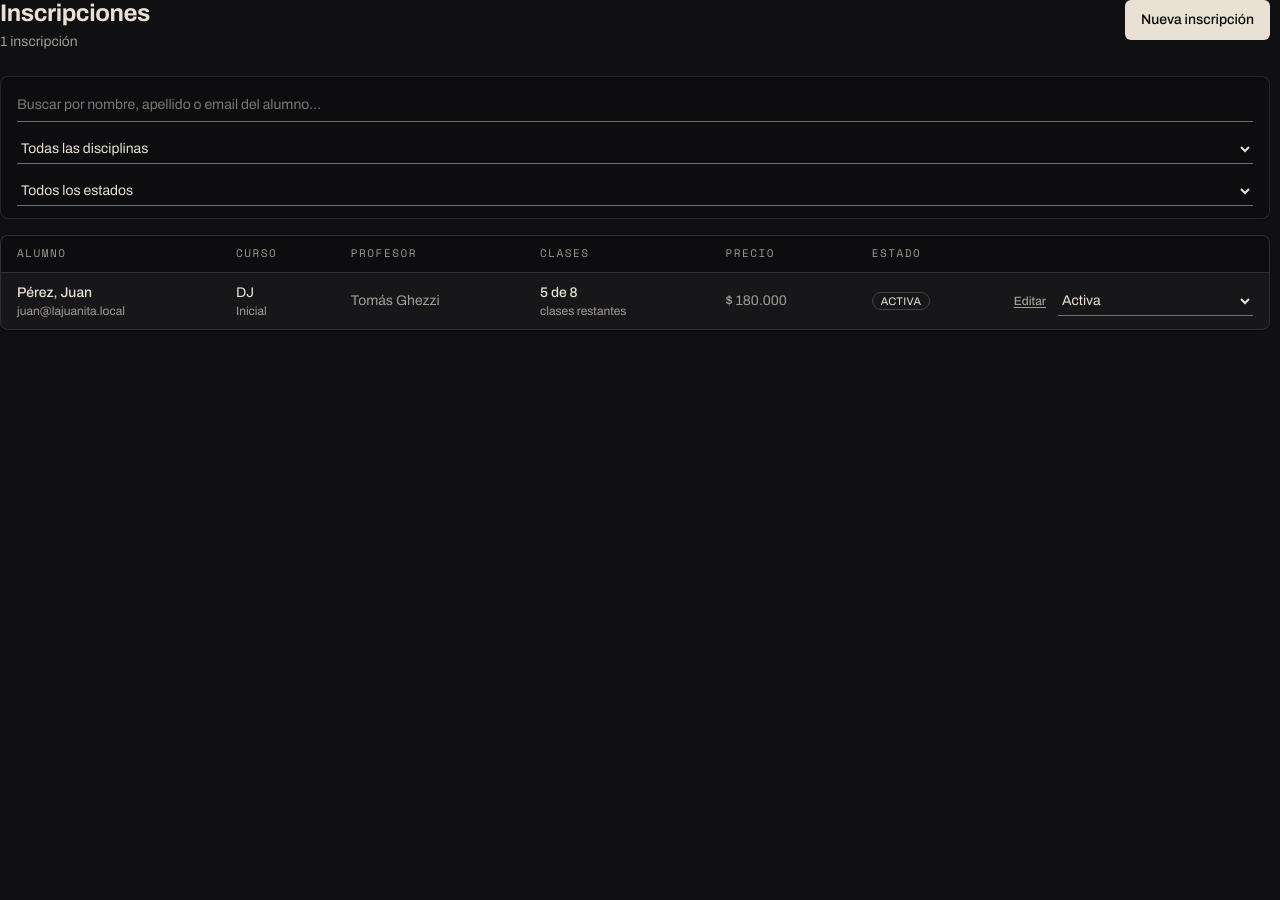
Test: las clases de fábrica del curso (§13, P34 — desde V28, del catálogo) › elegir DJ completa las 8 clases del curso cerrado
Click the button "Nueva inscripción". click: (1197, 20)
box: [1125, 0, 1270, 40]
(page scrolled)
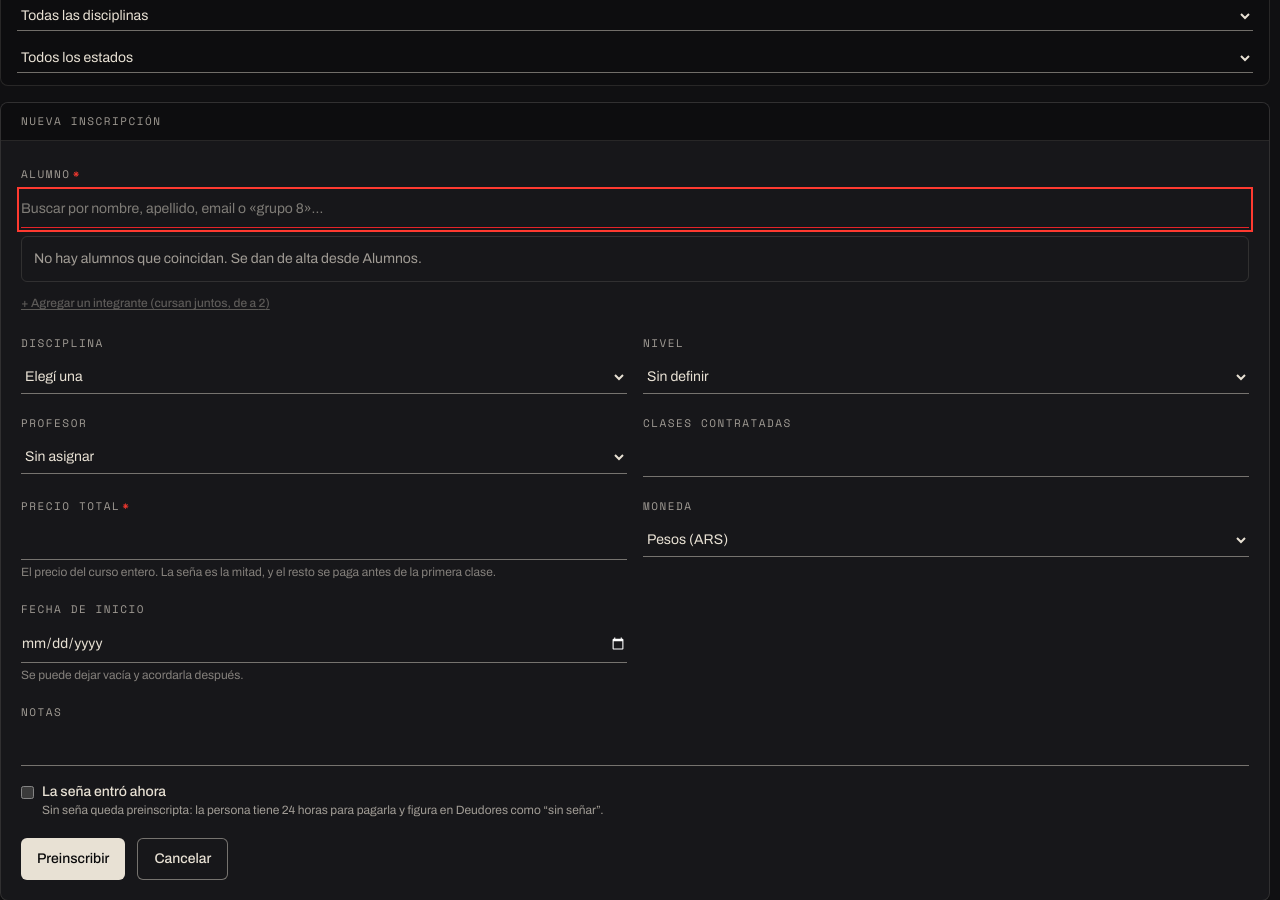
Select "DJ" in the dropdown labelled "Disciplina". click: (324, 377)
box: [21, 360, 627, 394]
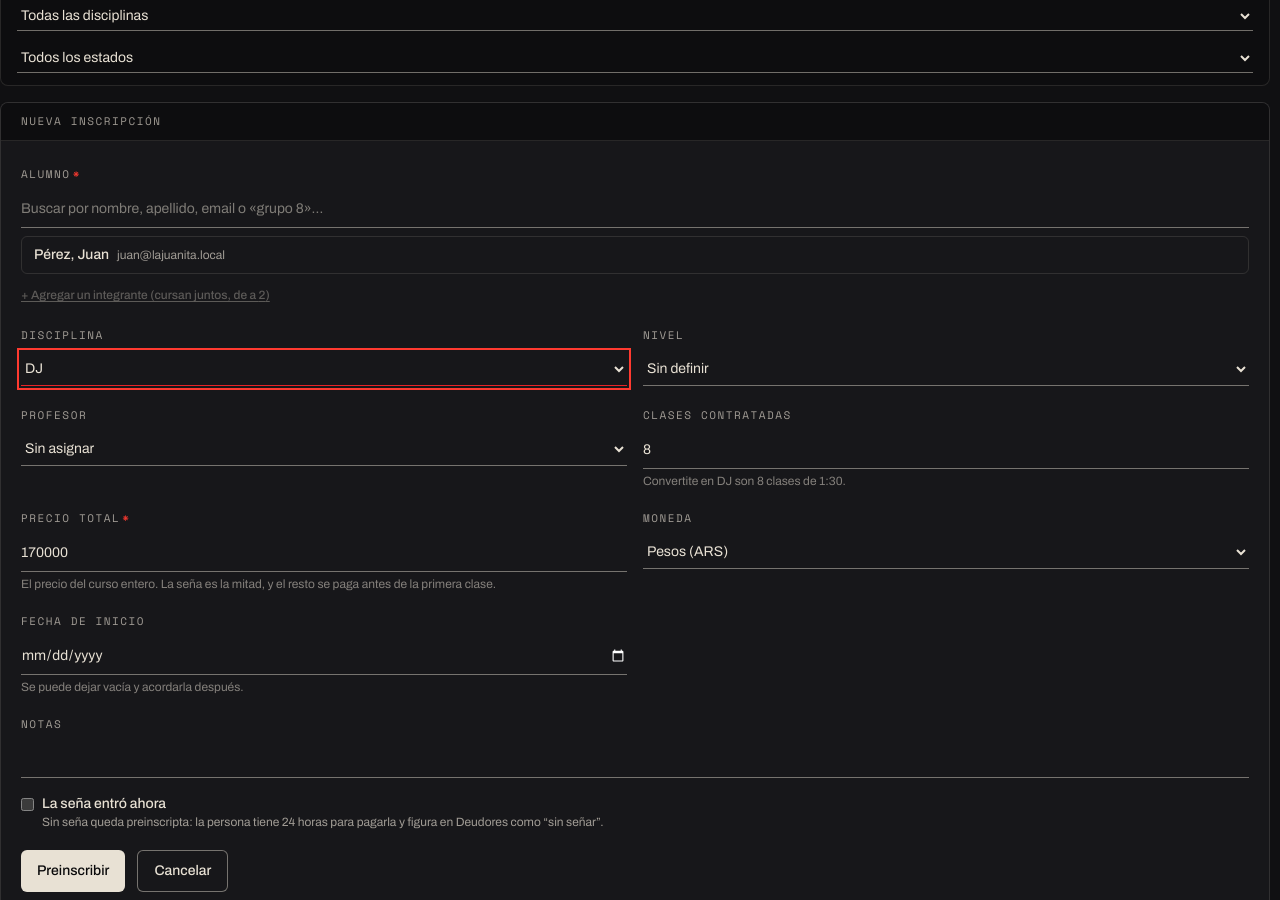
Check: the number field labelled "Clases contratadas Convertite en DJ son 8 clases de 1:30." holds "8", box [643, 432, 1249, 469]
